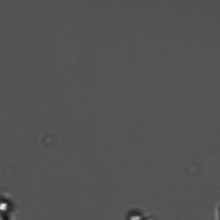Living Cell: (1, 197, 14, 216)
